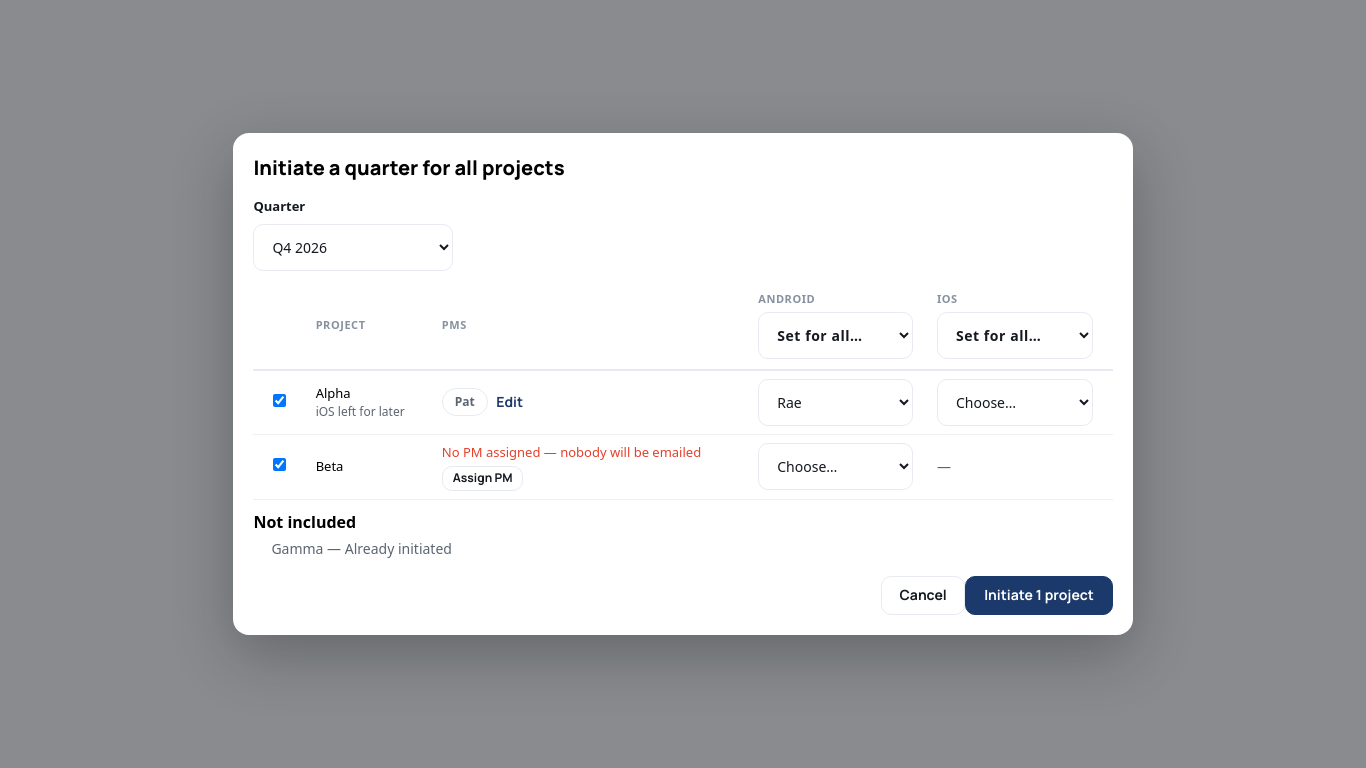
Test: unticked projects aren't sent
Click the checkbox named "Include Alpha": click(280, 400) [273,394,286,406]
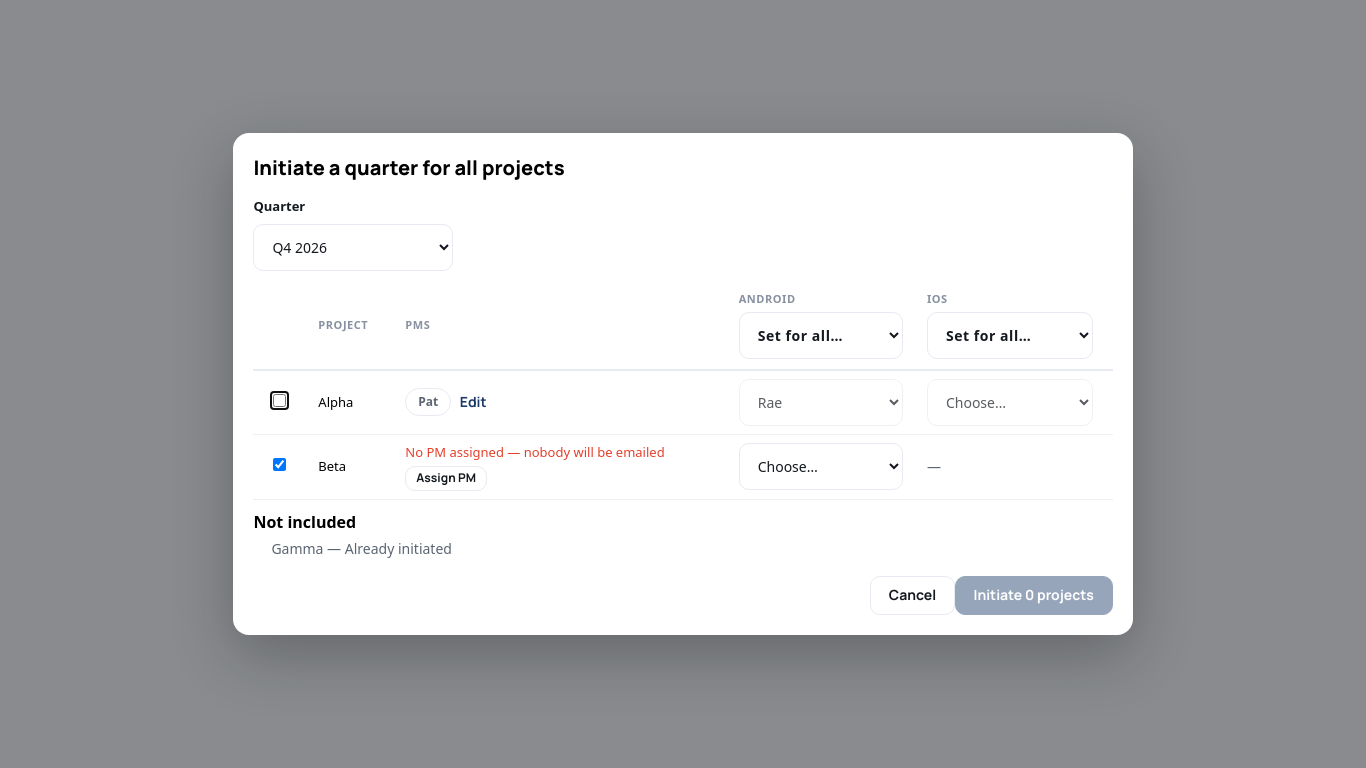
Expected: the button "Initiate 0 projects" is disabled, [955,576,1113,615]
